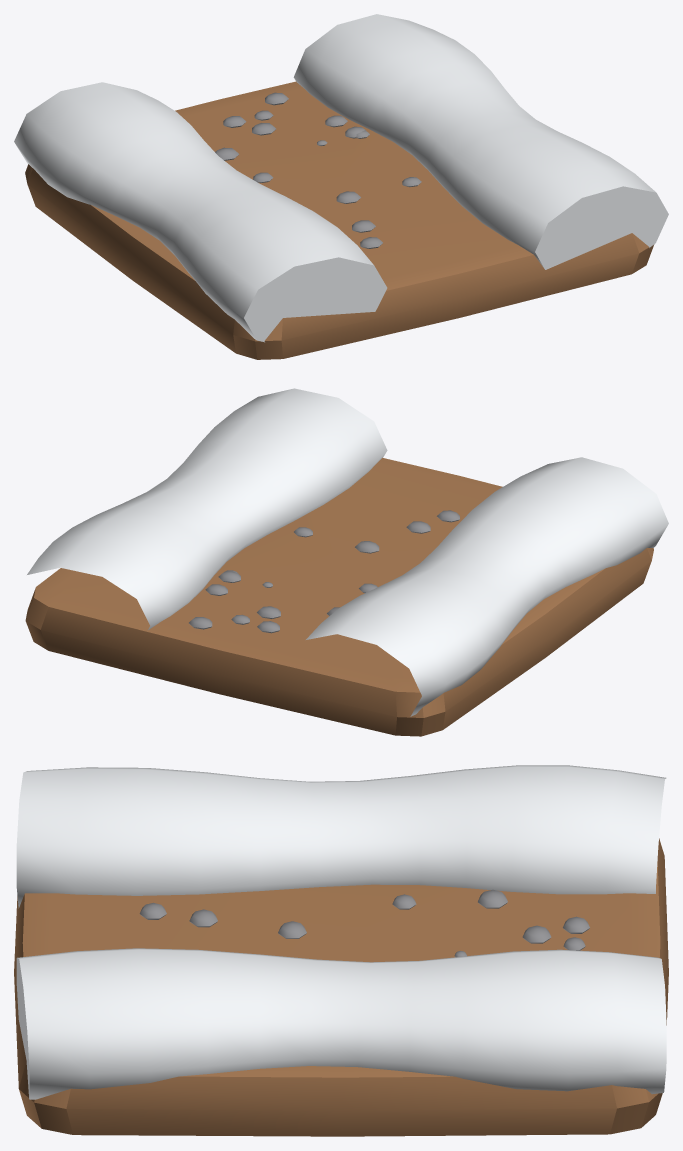
File: SnowyDirtPath.glb
3 views of the same model, one above another, from view 1: azimuth 30°, elevation 25°; view 2: azimuth 150°, elevation 25°; view 3: azimuth 270°, elevation 25° (orthographic). The views are drawn at different scales.
Parts seen in each view (by area): view 1: SnowyDirtPath; view 2: SnowyDirtPath; view 3: SnowyDirtPath.
Boxes of the visible parts, <box> form: SnowyDirtPath: <box>14,14,668,359</box>; SnowyDirtPath: <box>25,388,668,736</box>; SnowyDirtPath: <box>14,765,668,1136</box>.
Bounding box in the file's own units: 8.13 × 1.78 × 8.01.
Materials: 1 (1 with a texture image).
